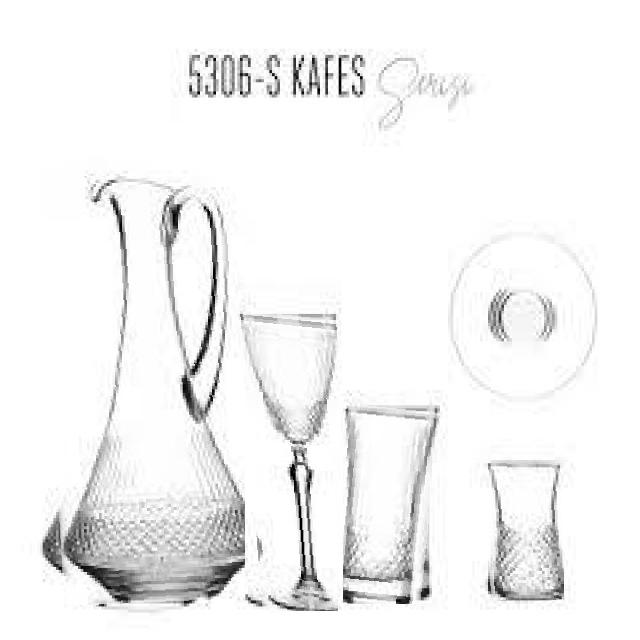Glass: (39, 176, 246, 606), (238, 310, 338, 611), (343, 403, 440, 604), (484, 460, 564, 600)
